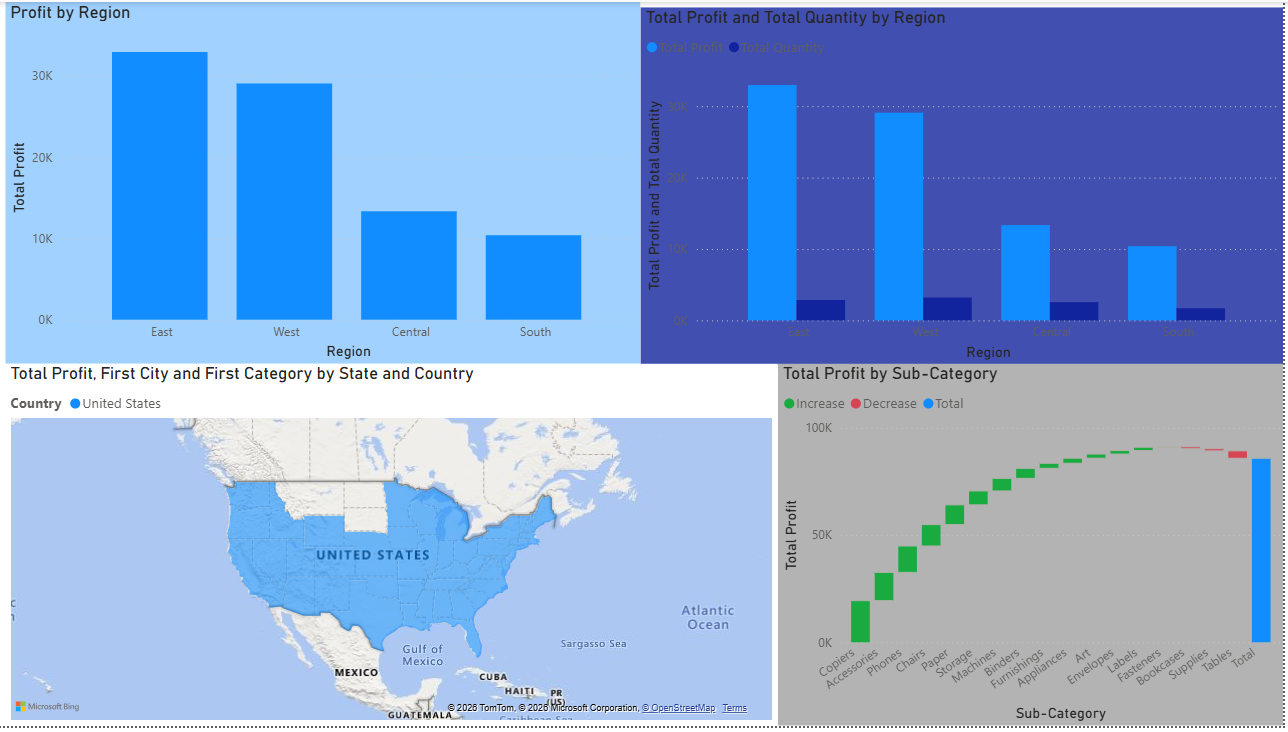

The dashboard page shown, as its layout file describes it:
{"tool":"powerbi","page":{"name":"REGION & PROFITABILITY ANALYSIS","canvas":[1280,720],"ordinal":2},"visuals":[{"type":"clusteredColumnChart","title":"Profit by Region","fields":{"Category":["Location_Dim.Region"],"Y":["Customer_Dim.Total Profit"]},"box":[9.5,0,630.8,359.8],"z":0},{"type":"lineClusteredColumnComboChart","fields":{"Y":["Customer_Dim.Total Profit","Customer_Dim.Total Quantity"],"Category":["Location_Dim.Region"]},"box":[640.3,4.8,640.3,355],"z":1},{"type":"filledMap","fields":{"Category":["Location_Dim.State"],"Y":["Customer_Dim.Total Profit"],"Series":["Location_Dim.Country"],"X":["Min(Location_Dim.City)"]},"box":[9.5,359.8,767.1,359.8],"z":2},{"type":"waterfallChart","fields":{"Y":["Customer_Dim.Total Profit"],"Category":["Product_Dim.Sub-Category"]},"box":[776.7,359.8,504,359.8],"z":3}]}

Visuals, with their boxes in screenshot pixels (x1, y1, x2, y2), scaled from the page's 1280x720 canvas onto the 1288x732 screenshot:
"Profit by Region" clusteredColumnChart: bbox=(10, 0, 644, 366)
lineClusteredColumnComboChart - Customer_Dim.Total Profit x Customer_Dim.Total Quantity: bbox=(644, 5, 1287, 366)
filledMap - Location_Dim.State x Customer_Dim.Total Profit: bbox=(10, 366, 781, 731)
waterfallChart - Customer_Dim.Total Profit x Product_Dim.Sub-Category: bbox=(782, 366, 1287, 731)
